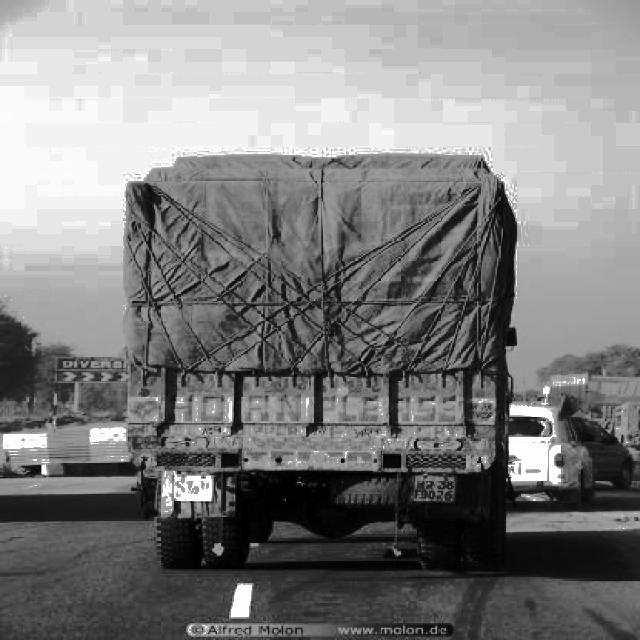HCV: (131, 162, 503, 576)
